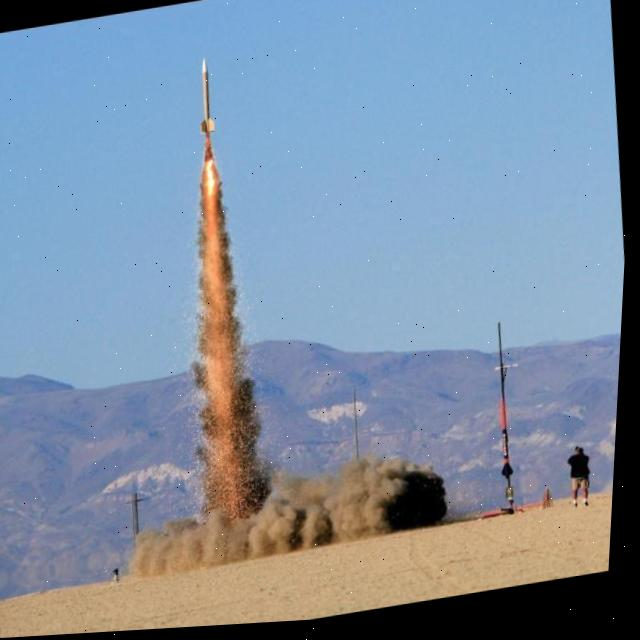missile: (468, 320, 538, 493), (180, 61, 228, 176), (118, 481, 160, 554)
